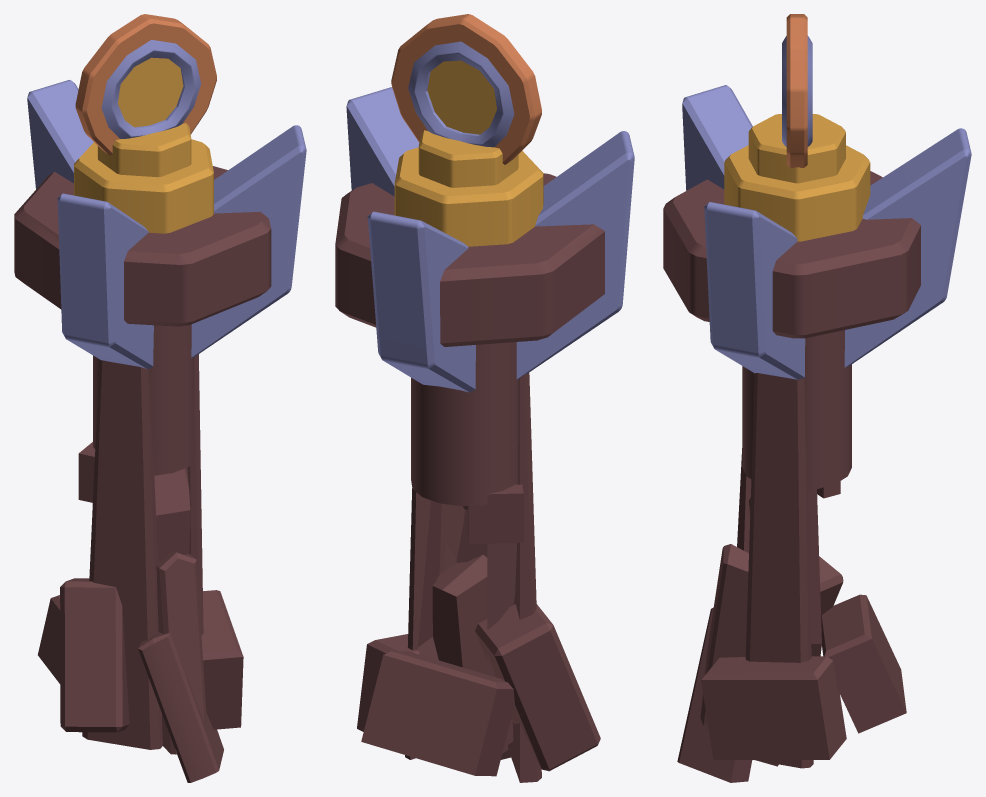
The model's file is maya2sketchfab.fbx.
3 views of the same model, side by side, from view 1: azimuth 30°, elevation 25°; view 2: azimuth 150°, elevation 25°; view 3: azimuth 270°, elevation 25° (orthographic). The views are drawn at different scales.
Parts seen in each view (by area): view 1: pCube3, pCylinder1, TREM_AZUL_BACKUP6, TREM_AZUL_BACKUP5, pCube8, pCylinder2, pTorus2, pCylinder4, pCube6, pCube5, TREM_AZUL_BACKUP7, pCube7 (+7 smaller); view 2: pCylinder1, pCylinder4, pCube10, TREM_AZUL_BACKUP7, pCube8, TREM_AZUL_BACKUP6, pCylinder2, pTorus2, pCube4, pCube5, TREM_AZUL_BACKUP5, pCube3 (+6 smaller); view 3: pCylinder1, pCube1, pCube7, TREM_AZUL_BACKUP5, TREM_AZUL_BACKUP7, pCylinder2, pCylinder4, pCube10, TREM_AZUL_BACKUP6, pCylinder3, pCube5, pTorus2 (+5 smaller).
Part boxes in pixels (x1,y1,x2,y2): pCube3: (82,359,162,749); pCylinder1: (14,166,271,326); TREM_AZUL_BACKUP6: (57,193,153,369); TREM_AZUL_BACKUP5: (191,125,306,357); pCube8: (60,578,129,732); pCylinder2: (74,139,213,233); pTorus2: (75,14,216,155); pCylinder4: (93,324,194,475); pCube6: (138,632,223,782); pCube5: (156,551,206,754); TREM_AZUL_BACKUP7: (27,80,93,189); pCube7: (201,590,243,729); pCylinder1: (335,173,604,346); pCylinder4: (411,342,518,506); pCube10: (361,651,514,776); TREM_AZUL_BACKUP7: (367,211,475,392); pCube8: (475,604,600,771); TREM_AZUL_BACKUP6: (516,131,634,379); pCylinder2: (394,147,543,246); pTorus2: (391,14,541,164); pCube4: (418,500,516,747); pCube5: (432,554,508,753); TREM_AZUL_BACKUP5: (346,87,419,196); pCube3: (508,373,541,782); pCylinder1: (663,171,920,338); pCube1: (745,373,813,768); pCube7: (701,656,846,759); TREM_AZUL_BACKUP5: (704,202,805,379); TREM_AZUL_BACKUP7: (844,128,971,367); pCylinder2: (724,145,870,241); pCylinder4: (742,330,851,489); pCube10: (821,594,906,733); TREM_AZUL_BACKUP6: (682,85,752,190); pCylinder3: (748,114,845,183); pCube5: (700,544,778,766); pTorus2: (786,14,807,167).
Bounding box in the file's own units: 5.76 × 15.71 × 5.84.
